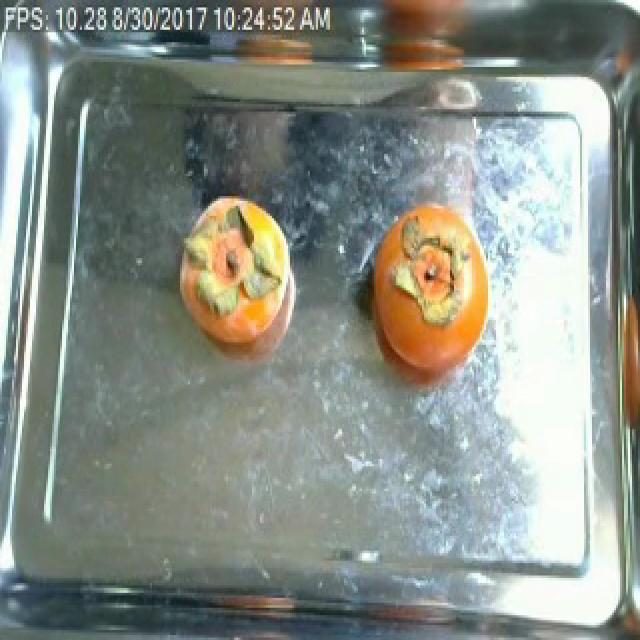Fruit: (168, 186, 294, 325), (370, 5, 484, 74)
